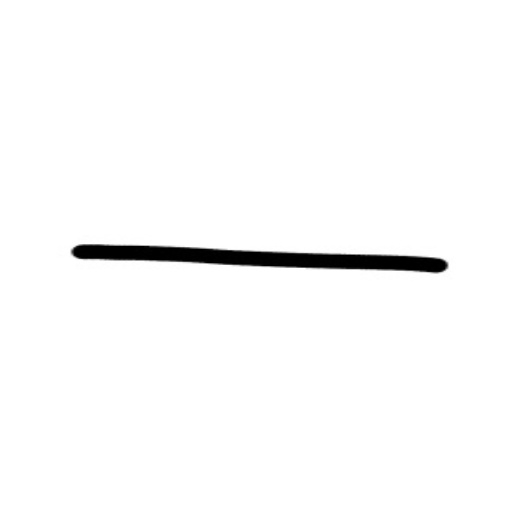line: (56, 221, 466, 288)
